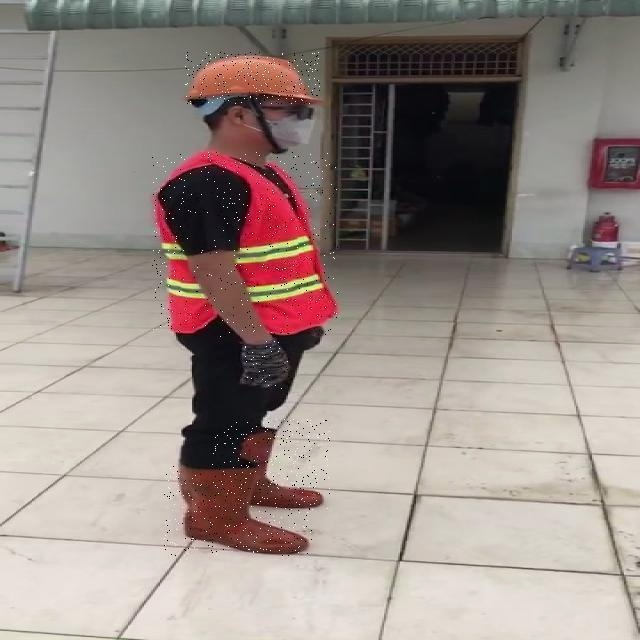boots: (328, 464, 476, 556), (310, 419, 428, 512)
gloves: (351, 288, 424, 401)
helmet: (320, 52, 455, 104)
vest: (302, 151, 489, 337)
